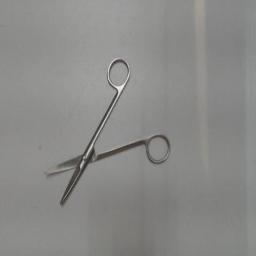Curved Mayo Scissors: (40, 54, 174, 208)
